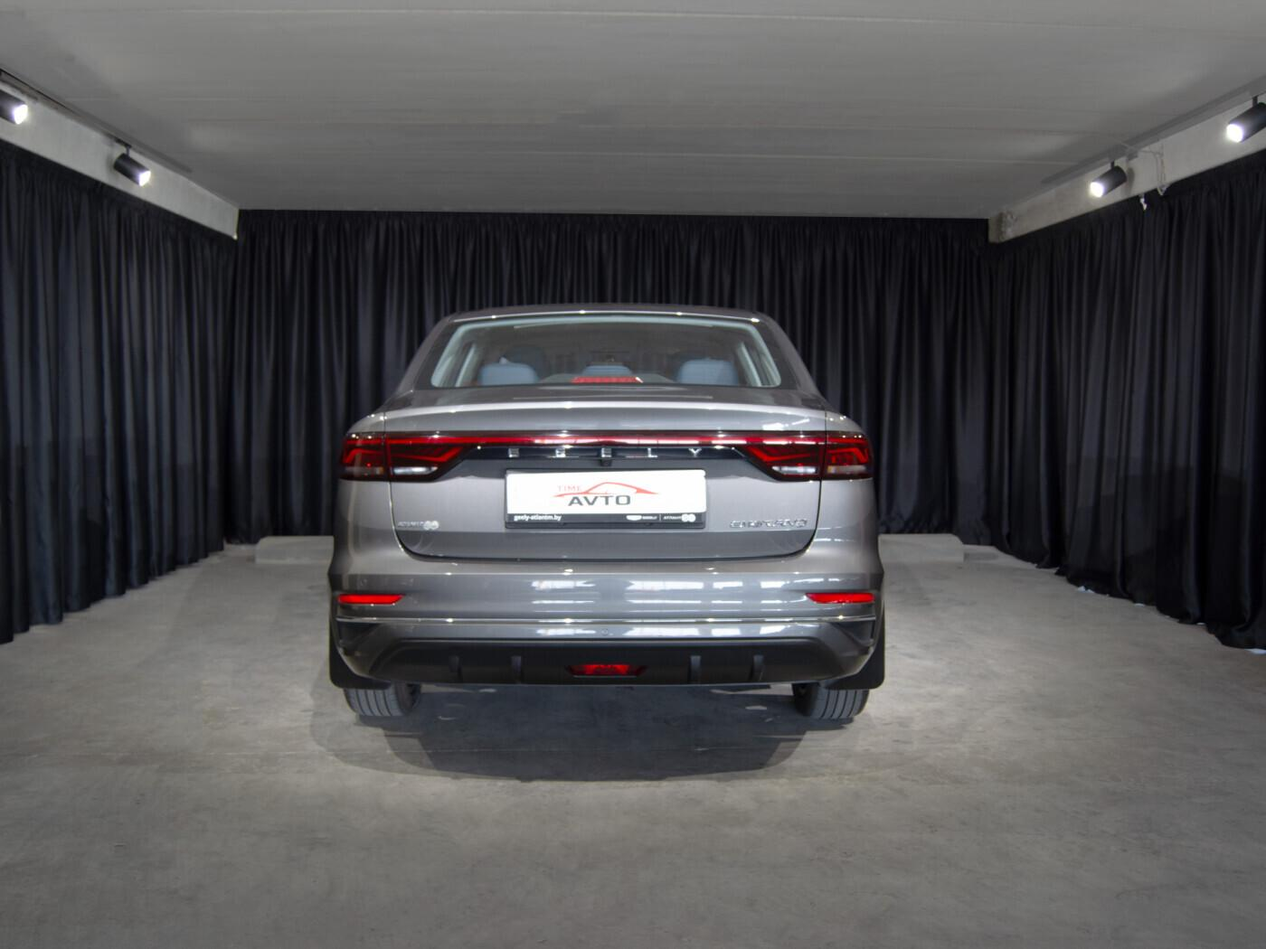Emgrand_2021: (310, 296, 894, 750)
